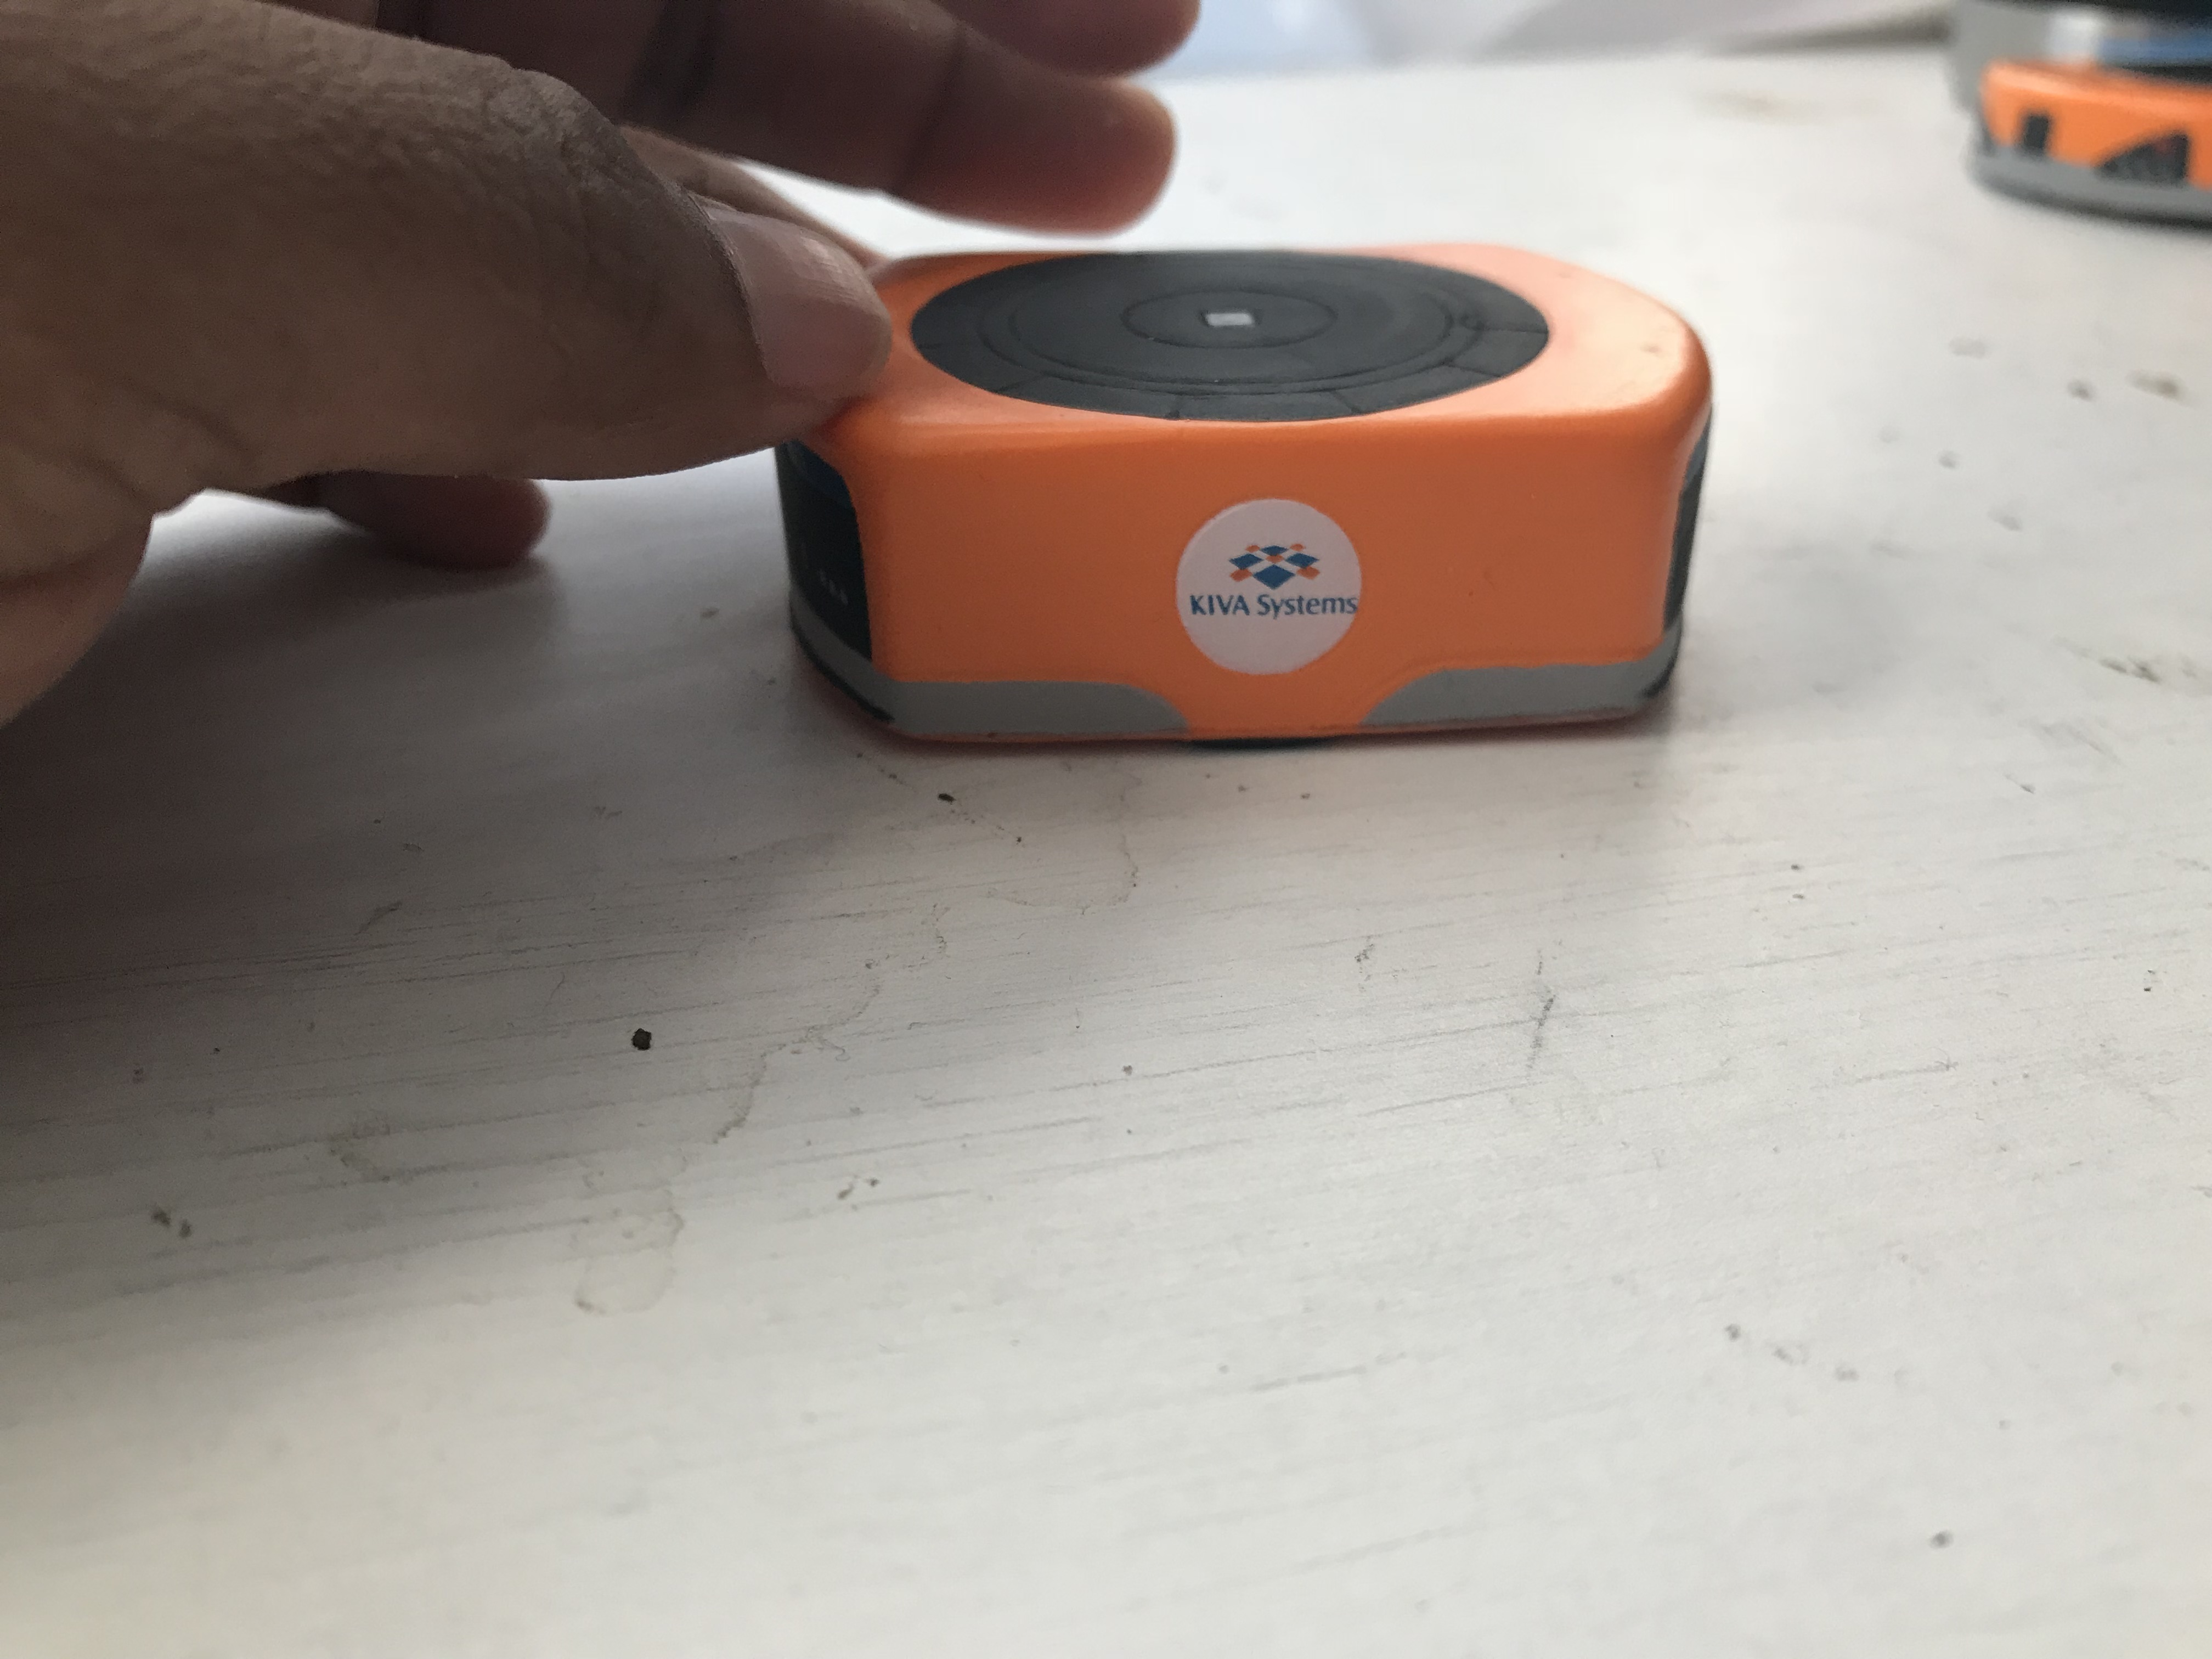amazon_bot: (862, 225, 1731, 775)
